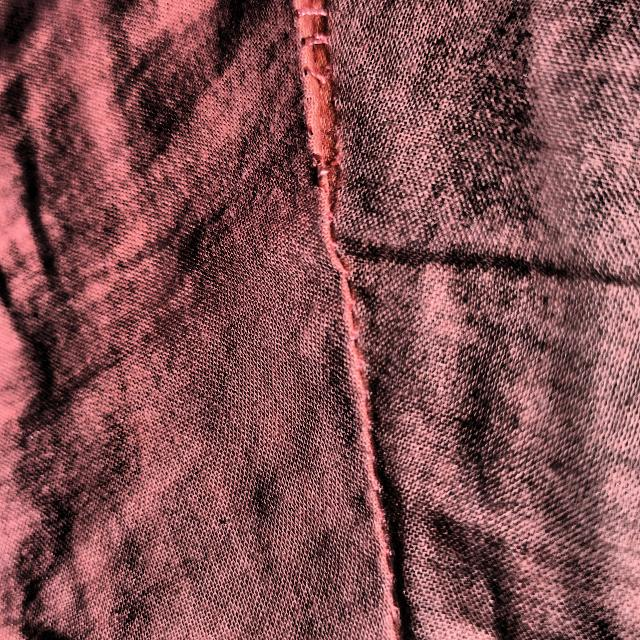seam: (275, 0, 382, 215)
